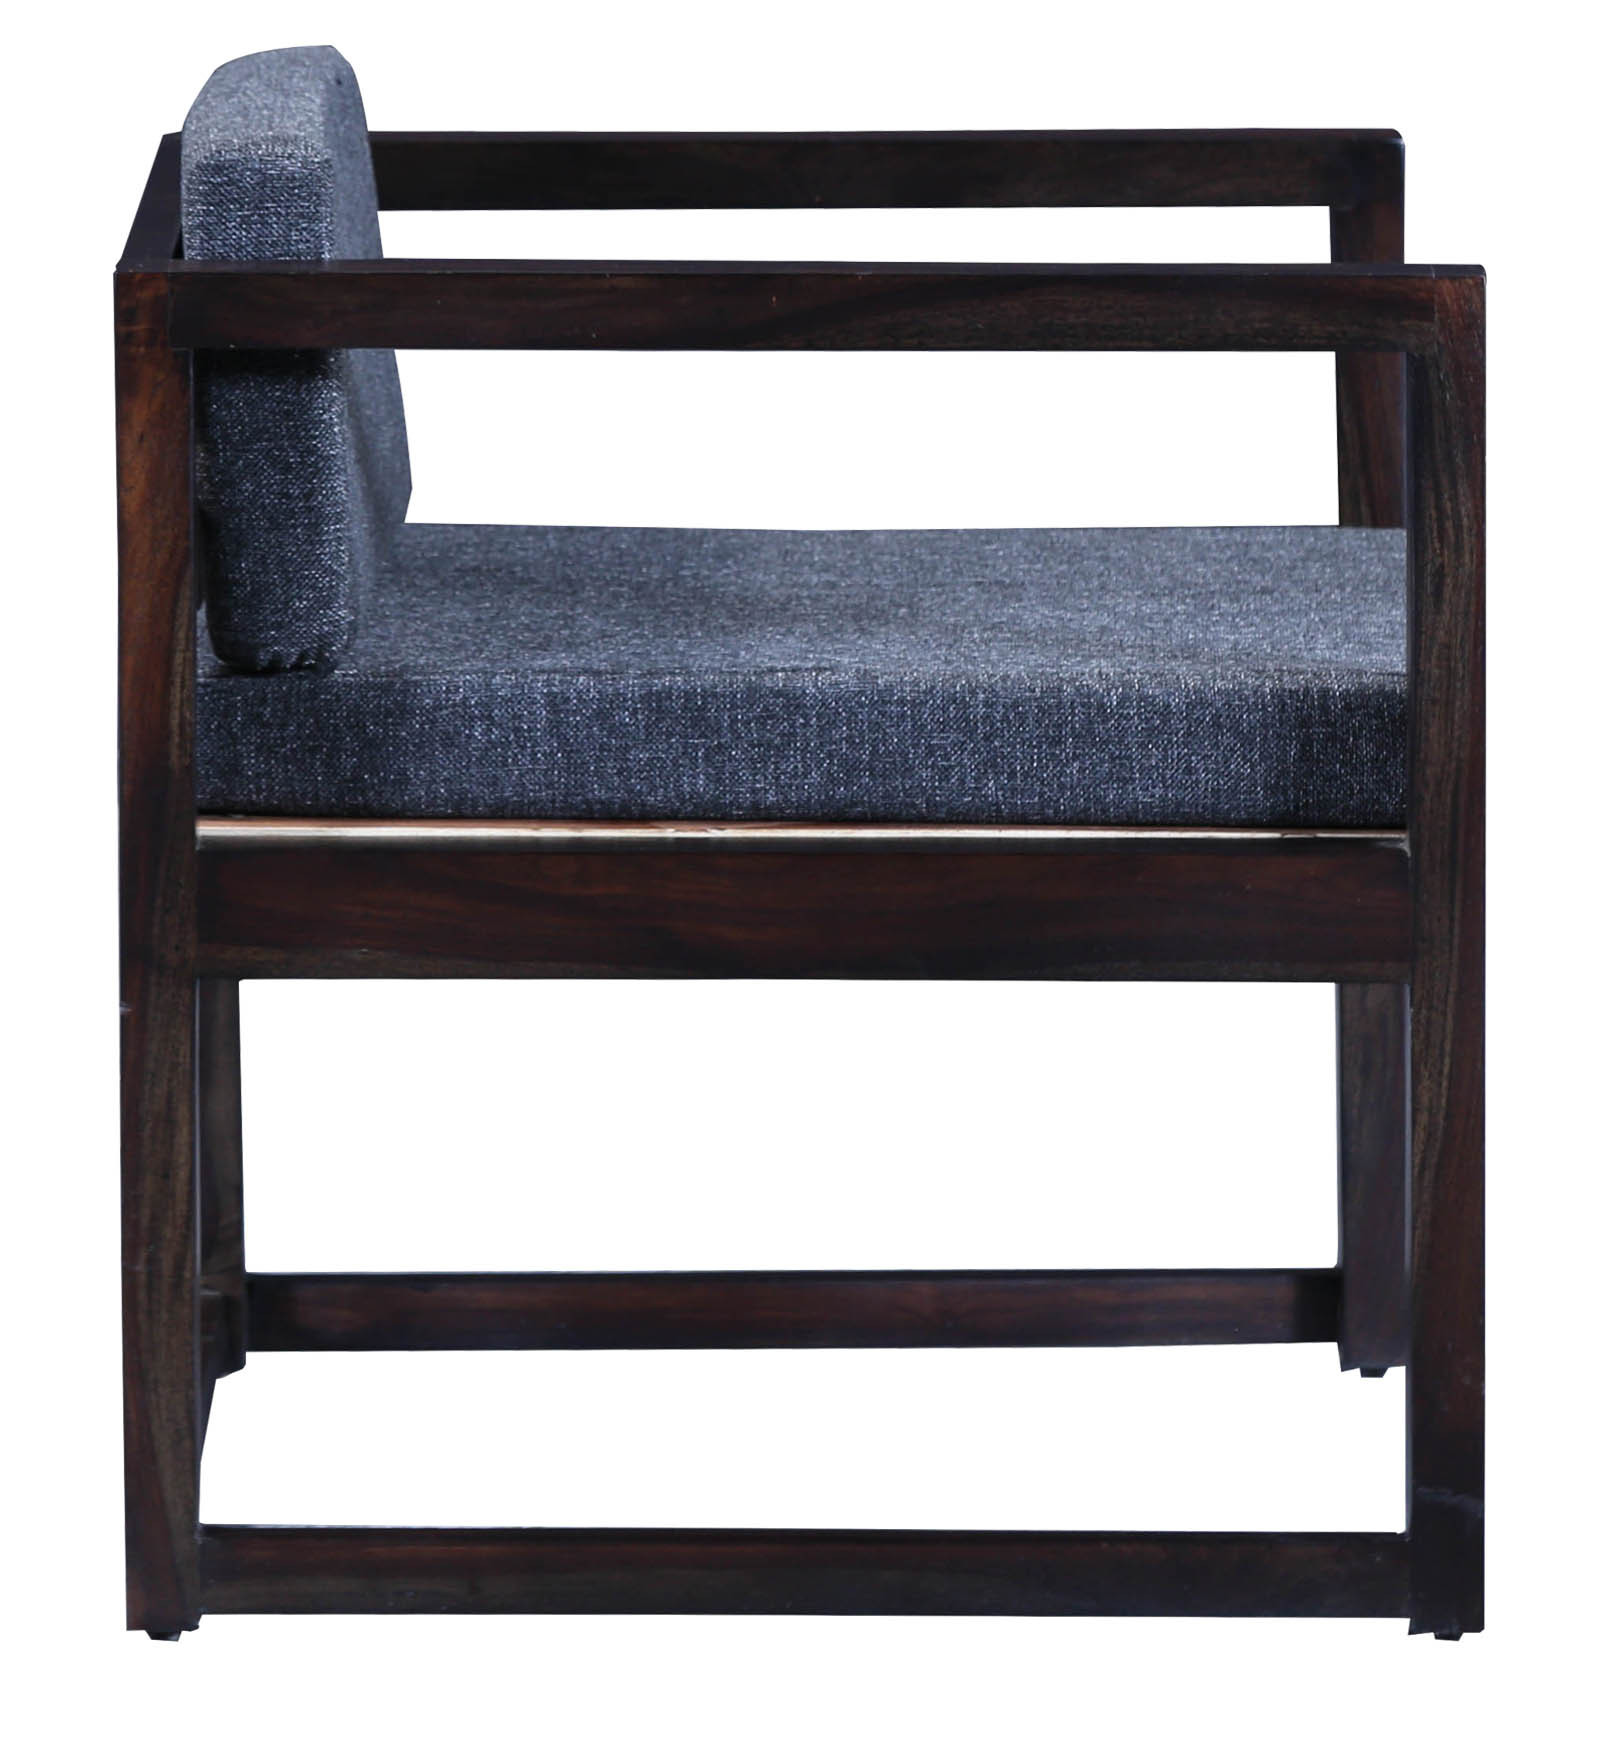Avian Arm Chair in Warm Chestnut Finish by Woodsworth: (38, 35, 1552, 1688)
